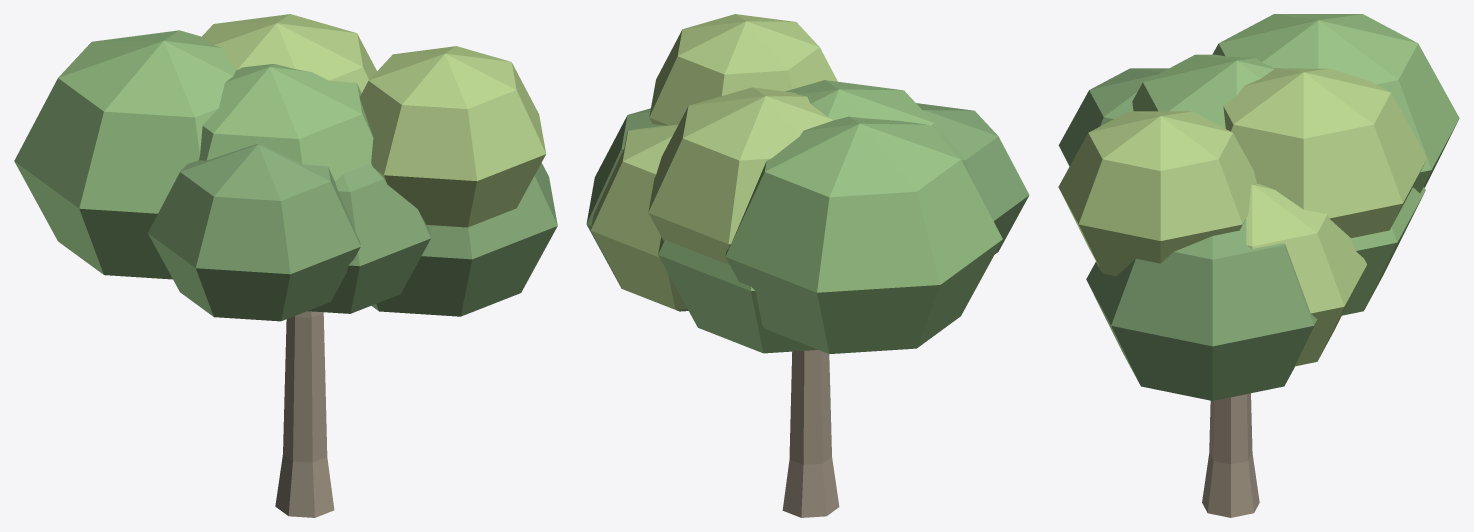
File: fv_tree_b.glb
3 views of the same model, side by side, from view 1: azimuth 30°, elevation 25°; view 2: azimuth 150°, elevation 25°; view 3: azimuth 270°, elevation 25° (orthographic). The views are drawn at different scales.
Parts seen in each view (by area): view 1: fv_tree_b; view 2: fv_tree_b; view 3: fv_tree_b.
Part boxes in pixels (box(x1,y1,x2,y2)): fv_tree_b: box(14, 14, 557, 517); fv_tree_b: box(586, 14, 1029, 517); fv_tree_b: box(1058, 14, 1459, 517).
Bounding box in the file's own units: 5.39 × 5.24 × 4.33.
